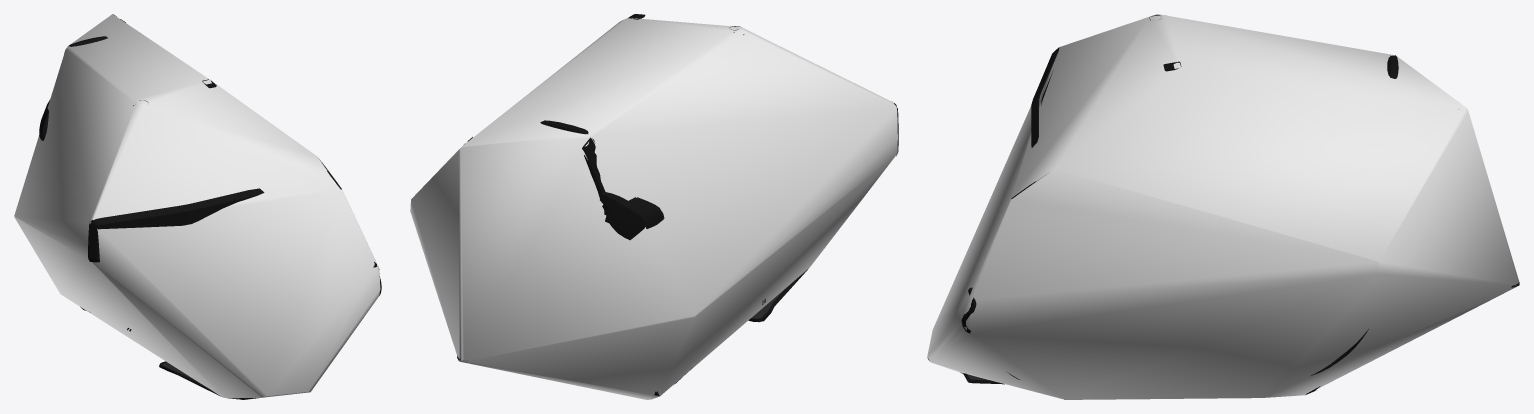
3 views of the same model, side by side, from view 1: azimuth 30°, elevation 25°; view 2: azimuth 150°, elevation 25°; view 3: azimuth 270°, elevation 25° (orthographic). The views are drawn at different scales.
Visible parts, largest first — view 1: interior_stampede_r_01_col, interior_stampede_r_01; view 2: interior_stampede_r_01_col, interior_stampede_r_01; view 3: interior_stampede_r_01_col, interior_stampede_r_01.
Part boxes in pixels (x1,y1,x2,y2): interior_stampede_r_01_col: (14,14,380,398); interior_stampede_r_01: (39,14,381,399); interior_stampede_r_01_col: (410,17,897,399); interior_stampede_r_01: (457,14,898,395); interior_stampede_r_01_col: (927,14,1519,399); interior_stampede_r_01: (927,15,1519,399).
Size of the model in its own units: 1.11 by 1.03 by 1.74.
Materials: 6 (4 with a texture image).
